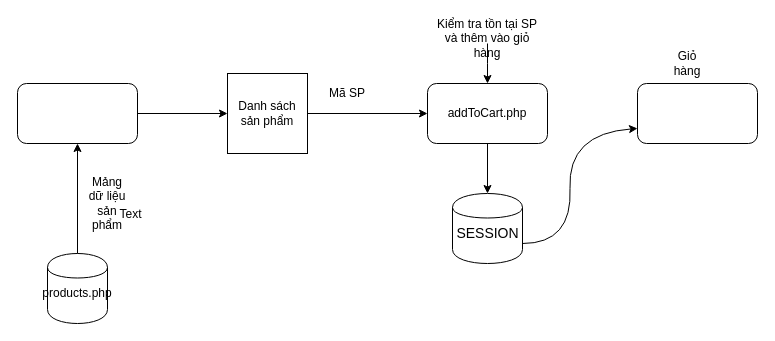
Image size: 775x341. Some labels were removed from this diagram. Each missing label, with the centre of its shape:
"Cart.php" belongs at [77,113].
"cartDetails.php" belongs at [697,113].
